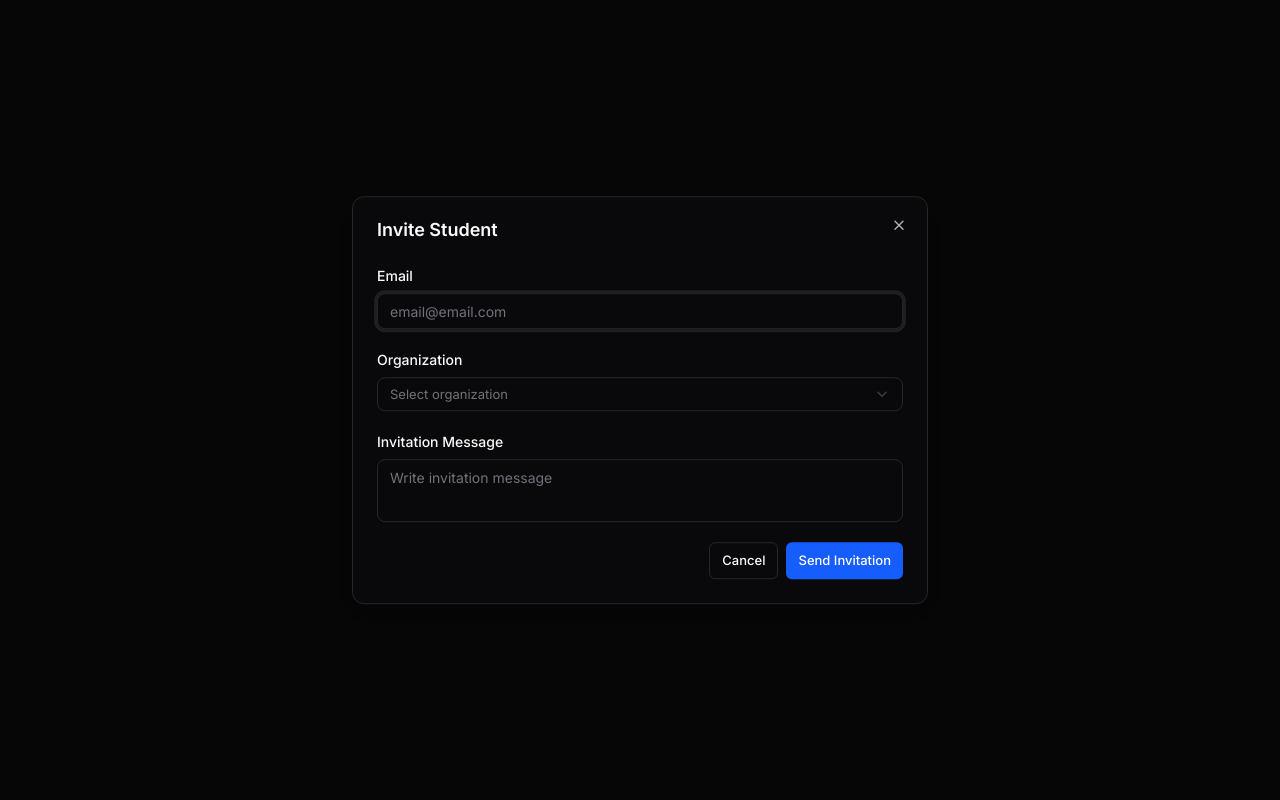
InviteStudentModal › Form Validation › displays error for invalid email format
Type "invalid-email" into the field labelled "Email" at coordinates (640, 311), box [377,293,903,329]
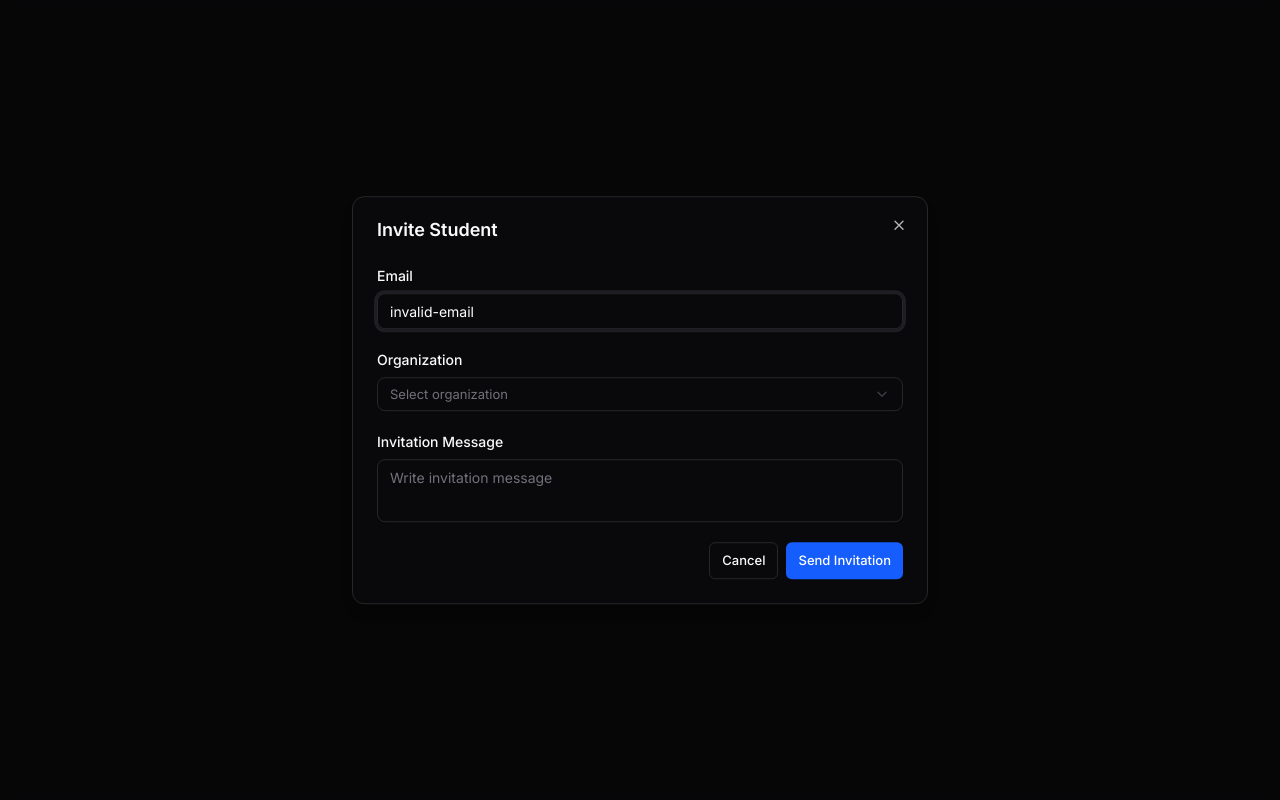
Click the button "Send Invitation" at coordinates (845, 560), box [786,542,903,579]
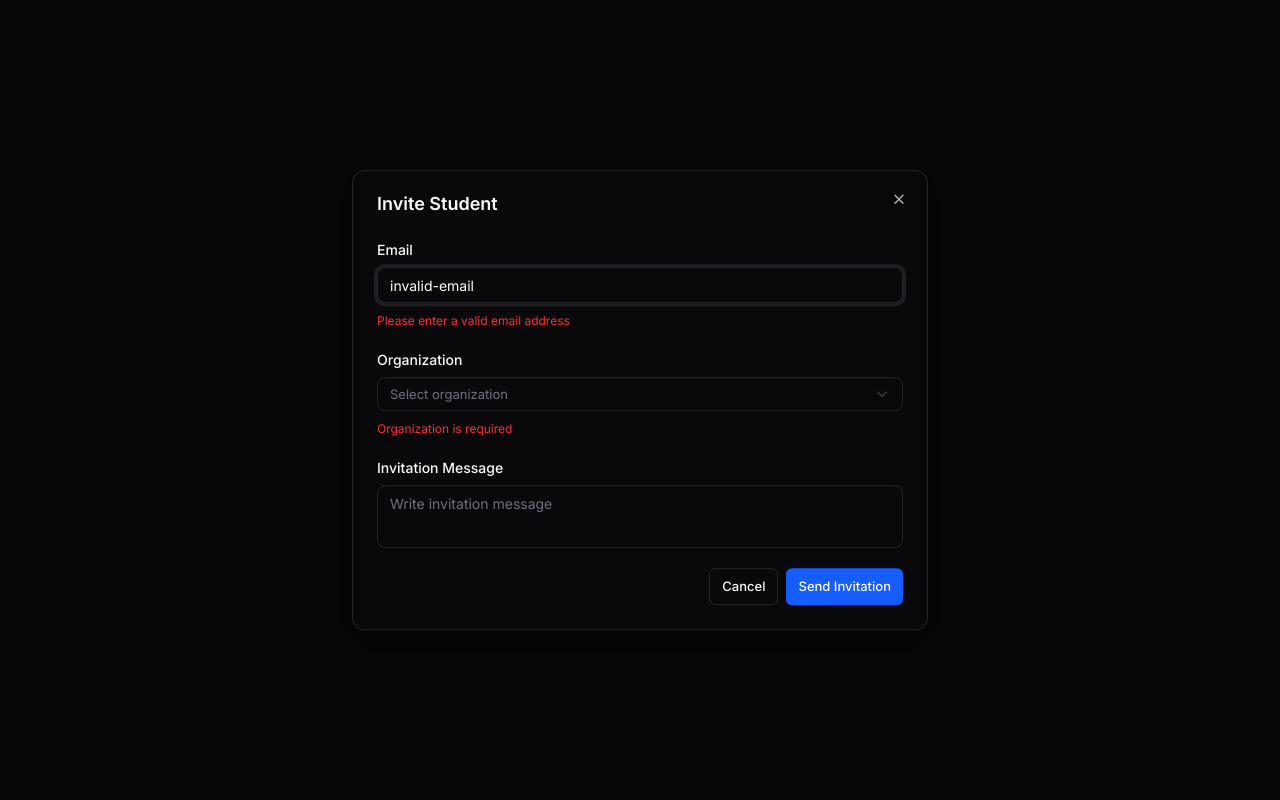
Now the text "Please enter a valid email address" is shown, box [377,313,570,328]
